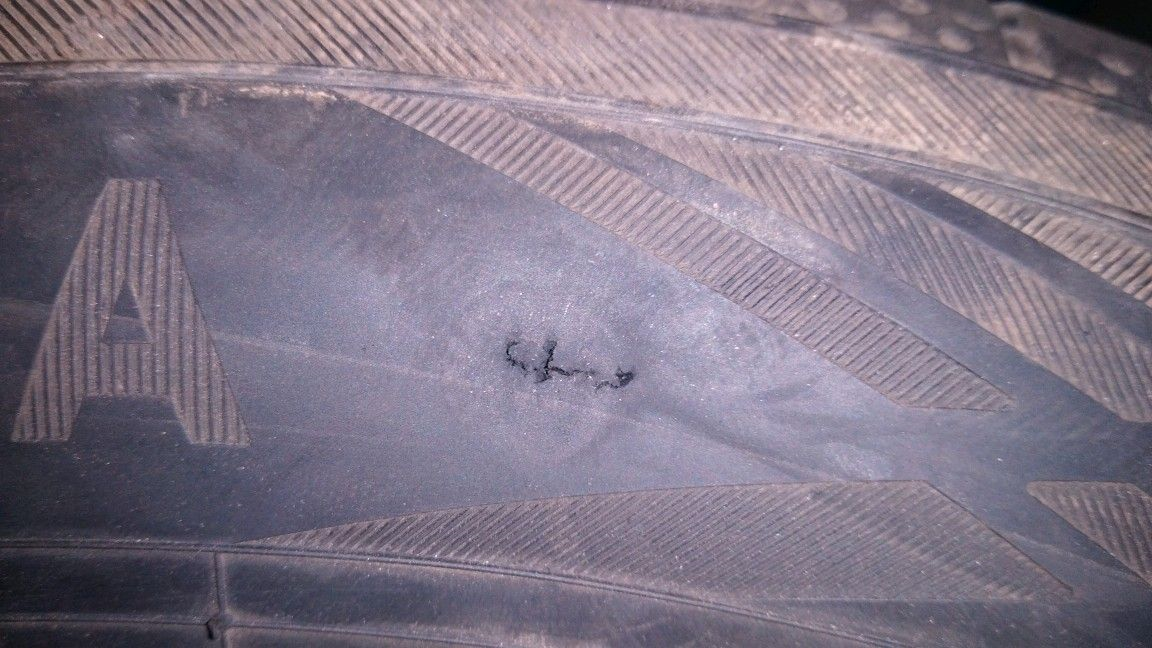cut: (502, 337, 639, 394)
